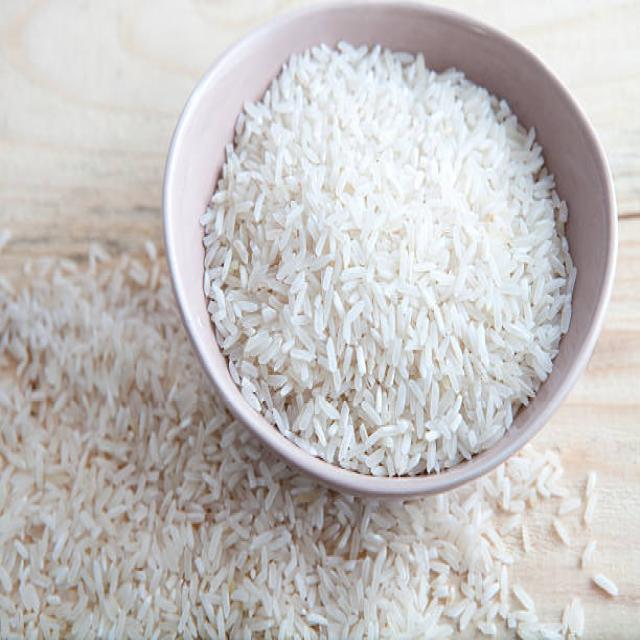rice: (198, 42, 577, 477)
